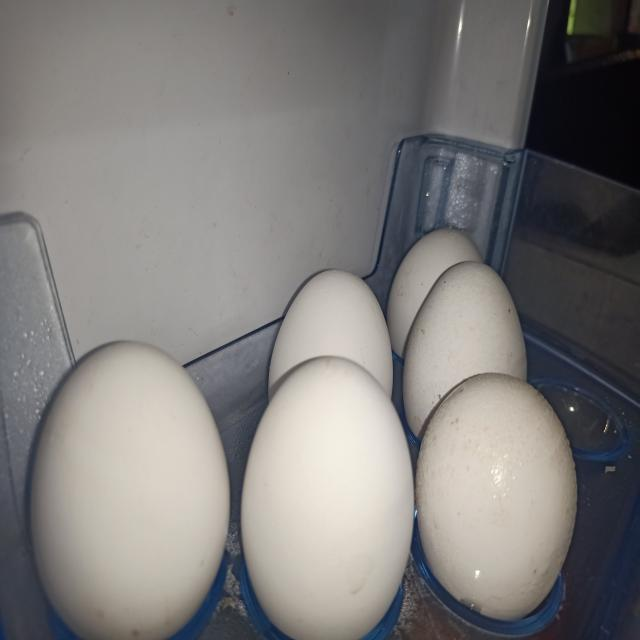Egg: (30, 342, 229, 639), (241, 356, 414, 639), (416, 372, 578, 621), (404, 261, 528, 438), (269, 269, 393, 399), (388, 228, 483, 358)
